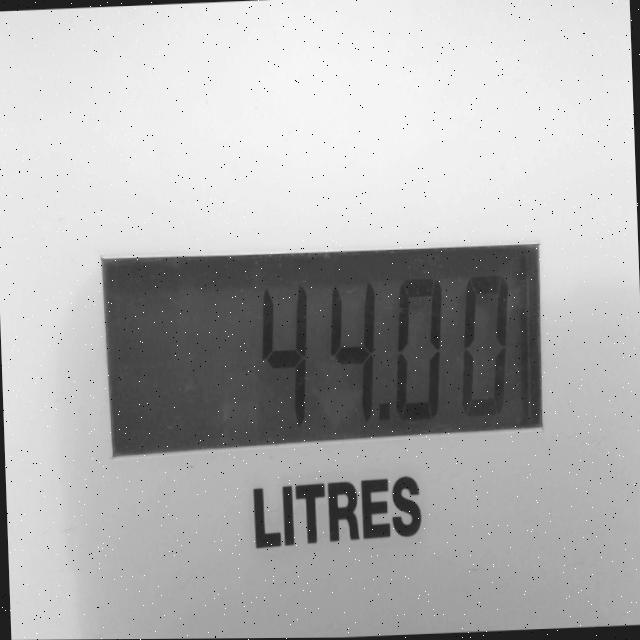.: (376, 382, 403, 448)
0: (448, 262, 516, 442), (390, 285, 450, 432)
4: (256, 283, 326, 442), (324, 286, 378, 428)
